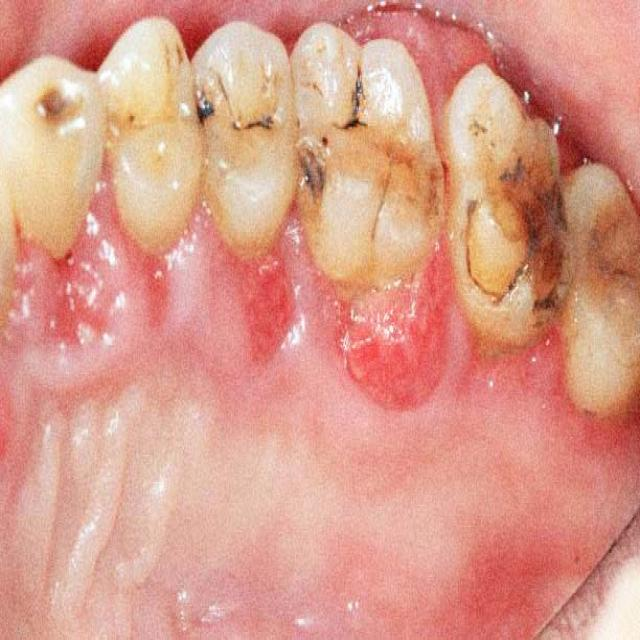caries: (21, 69, 86, 155), (224, 91, 281, 163), (340, 59, 379, 143), (296, 127, 330, 203), (183, 71, 217, 143)
